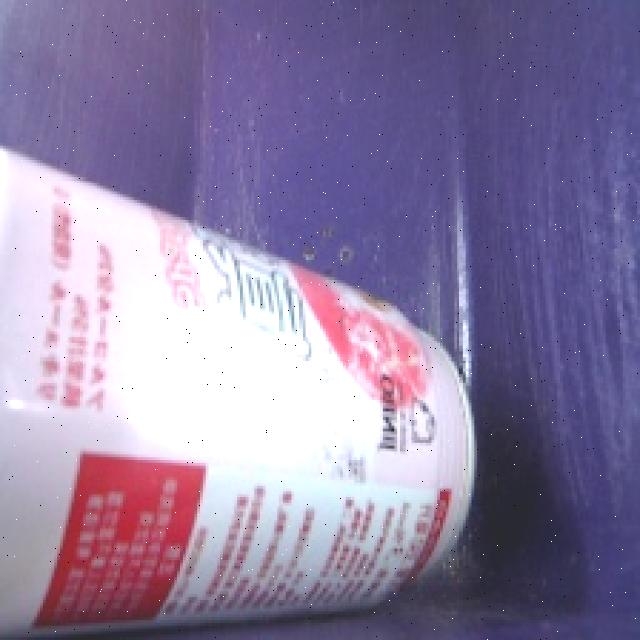metal: (0, 131, 490, 640)
